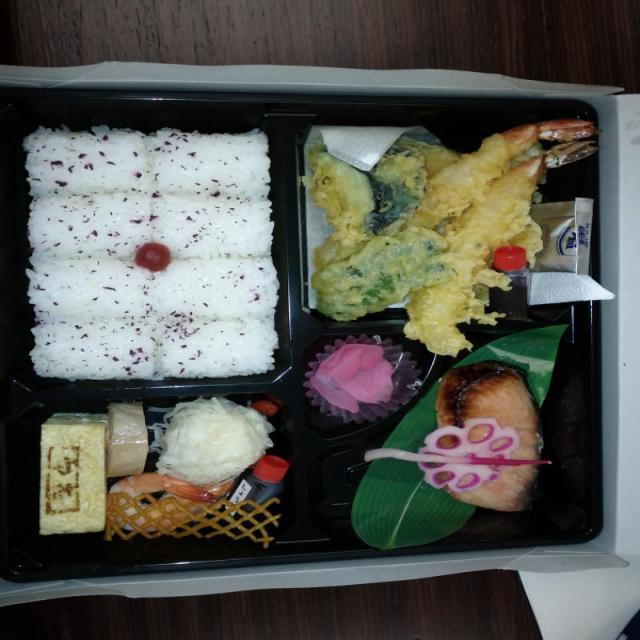Rice: (27, 122, 276, 376)
